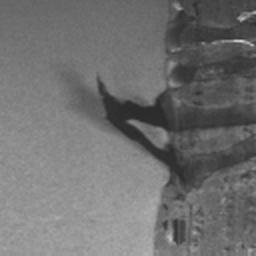Slag inclusion: (93, 0, 256, 256)
